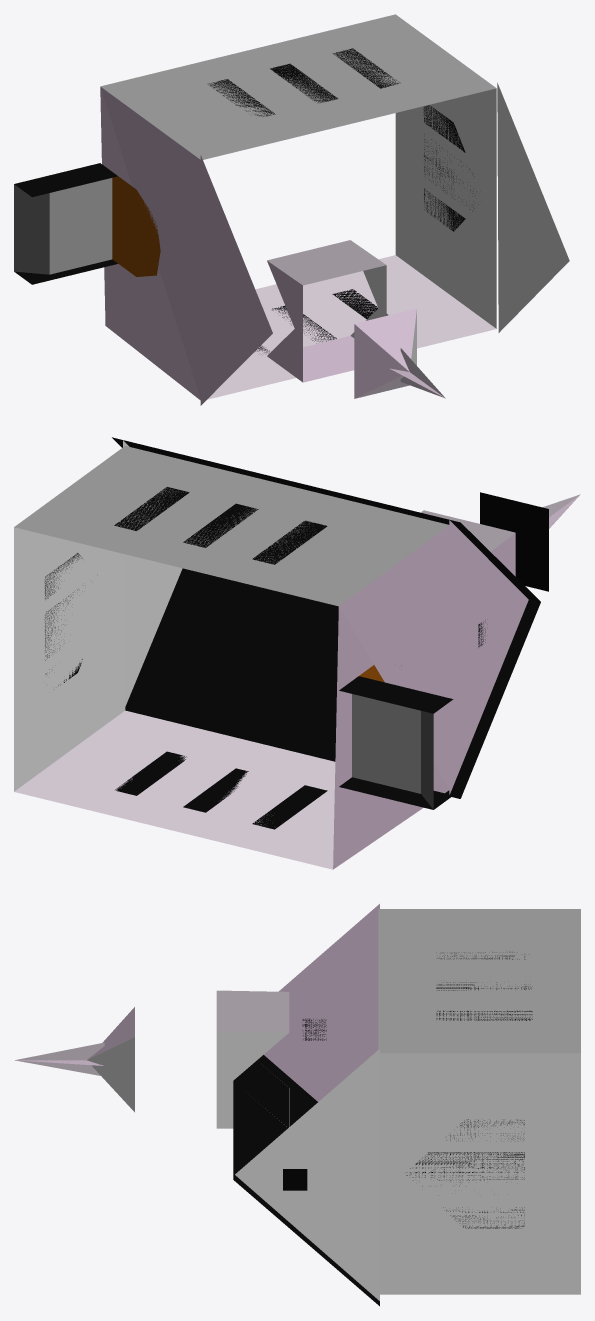
The model's file is objs2_43.obj.
3 renders of one model, top to bottom at view 1: azimuth 30°, elevation 25°; view 2: azimuth 150°, elevation 25°; view 3: azimuth 270°, elevation 25°, orthographic. The views are drawn at different scales.
Visible parts, largest first — view 1: objs2_43; view 2: objs2_43; view 3: objs2_43.
Part boxes in pixels (x1,y1,x2,y2): objs2_43: (14,14,569,405); objs2_43: (14,437,580,869); objs2_43: (15,904,580,1306).
Bounding box in the file's own units: 0.302 × 0.184 × 0.375.
